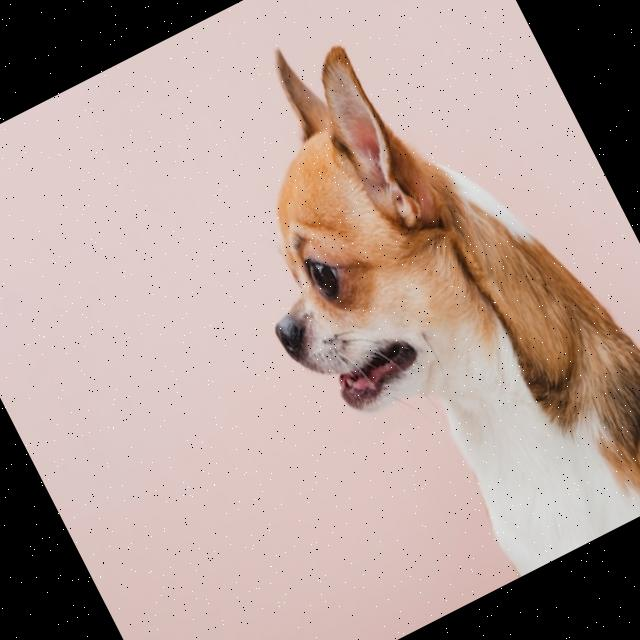Dog: (159, 0, 640, 625)
